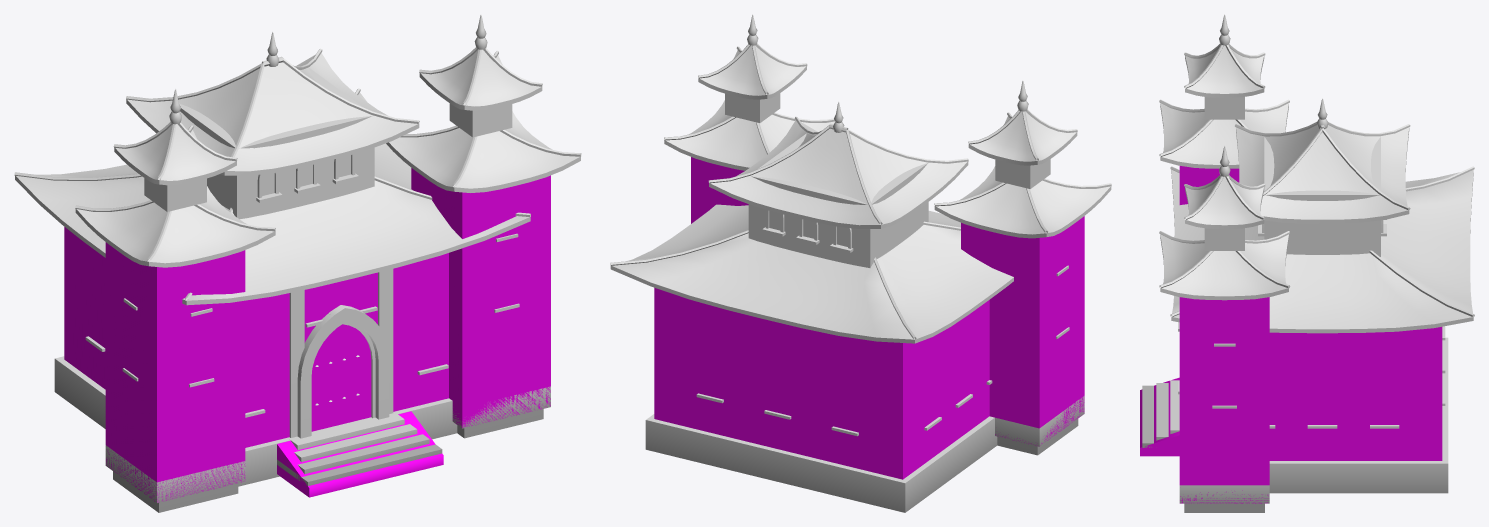
File: temple.glb
The picture shows the model from 3 angles, left to right: view 1: azimuth 30°, elevation 25°; view 2: azimuth 150°, elevation 25°; view 3: azimuth 270°, elevation 25°; orthographic projection. The views are drawn at different scales.
Visible parts, largest first — view 1: temple, temple_hull; view 2: temple, temple_hull; view 3: temple, temple_hull.
Part boxes in pixels (x1,y1,x2,y2): temple: [14, 14, 581, 512]; temple_hull: [64, 168, 550, 502]; temple: [610, 14, 1111, 512]; temple_hull: [654, 157, 1084, 479]; temple: [1142, 14, 1474, 512]; temple_hull: [1140, 166, 1442, 503].
Size of the model in its own units: 28.45 by 24.9 by 21.56.
